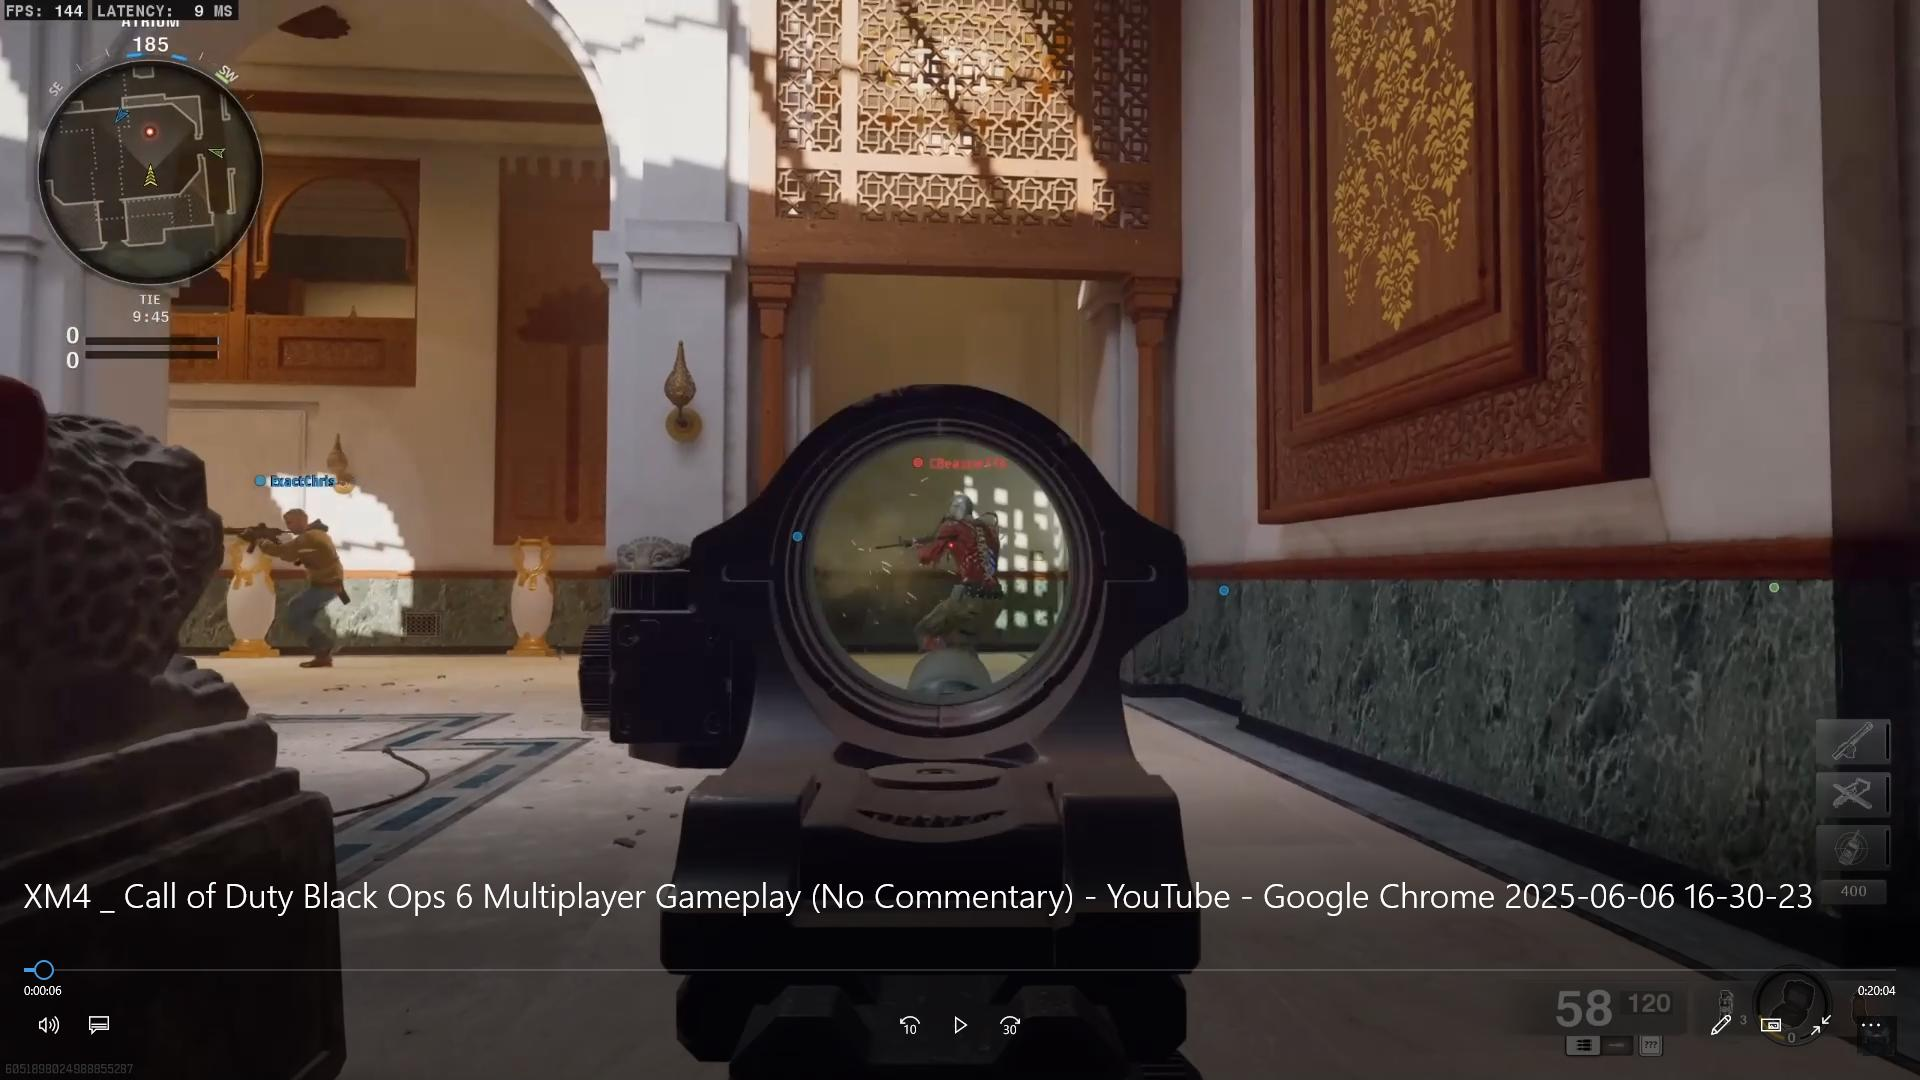Enemy: (885, 469, 1030, 646)
